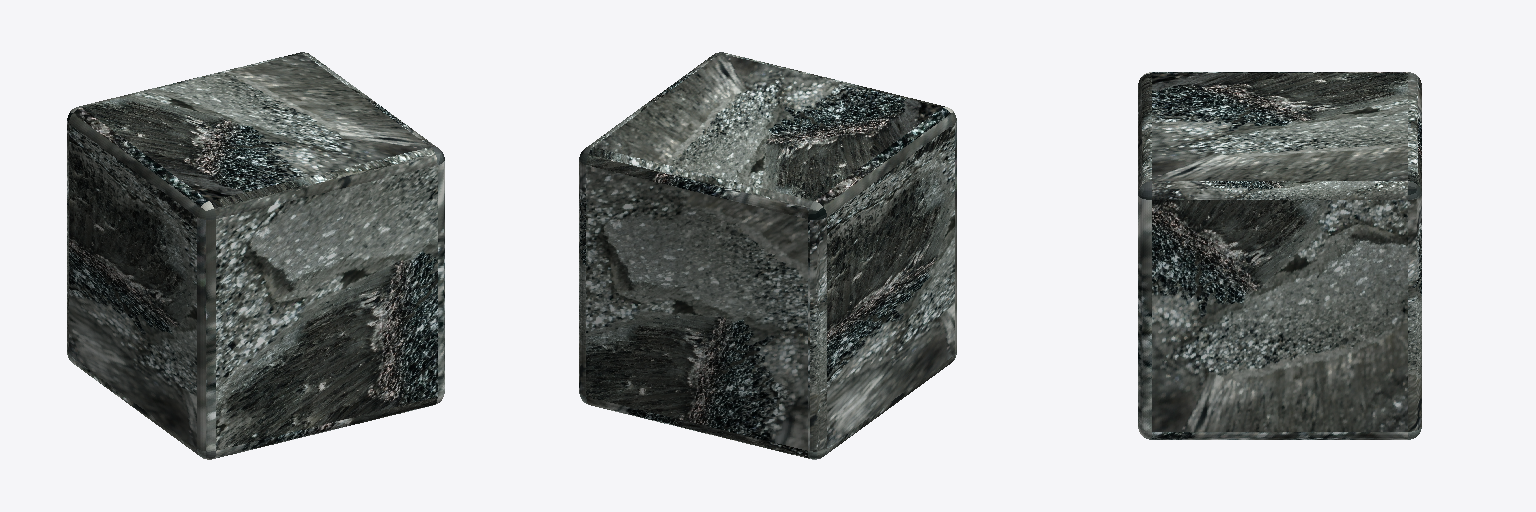
3 views of the same model, side by side, from view 1: azimuth 30°, elevation 25°; view 2: azimuth 150°, elevation 25°; view 3: azimuth 270°, elevation 25° (orthographic).
Visible parts, largest first — view 1: Cube; view 2: Cube; view 3: Cube.
Part boxes in pixels (bbox=[...]): Cube: bbox=[67, 52, 444, 459]; Cube: bbox=[579, 52, 956, 459]; Cube: bbox=[1138, 72, 1421, 439].
Bounding box in the file's own units: 2 × 2 × 2.
Materials: 1 (1 with a texture image).